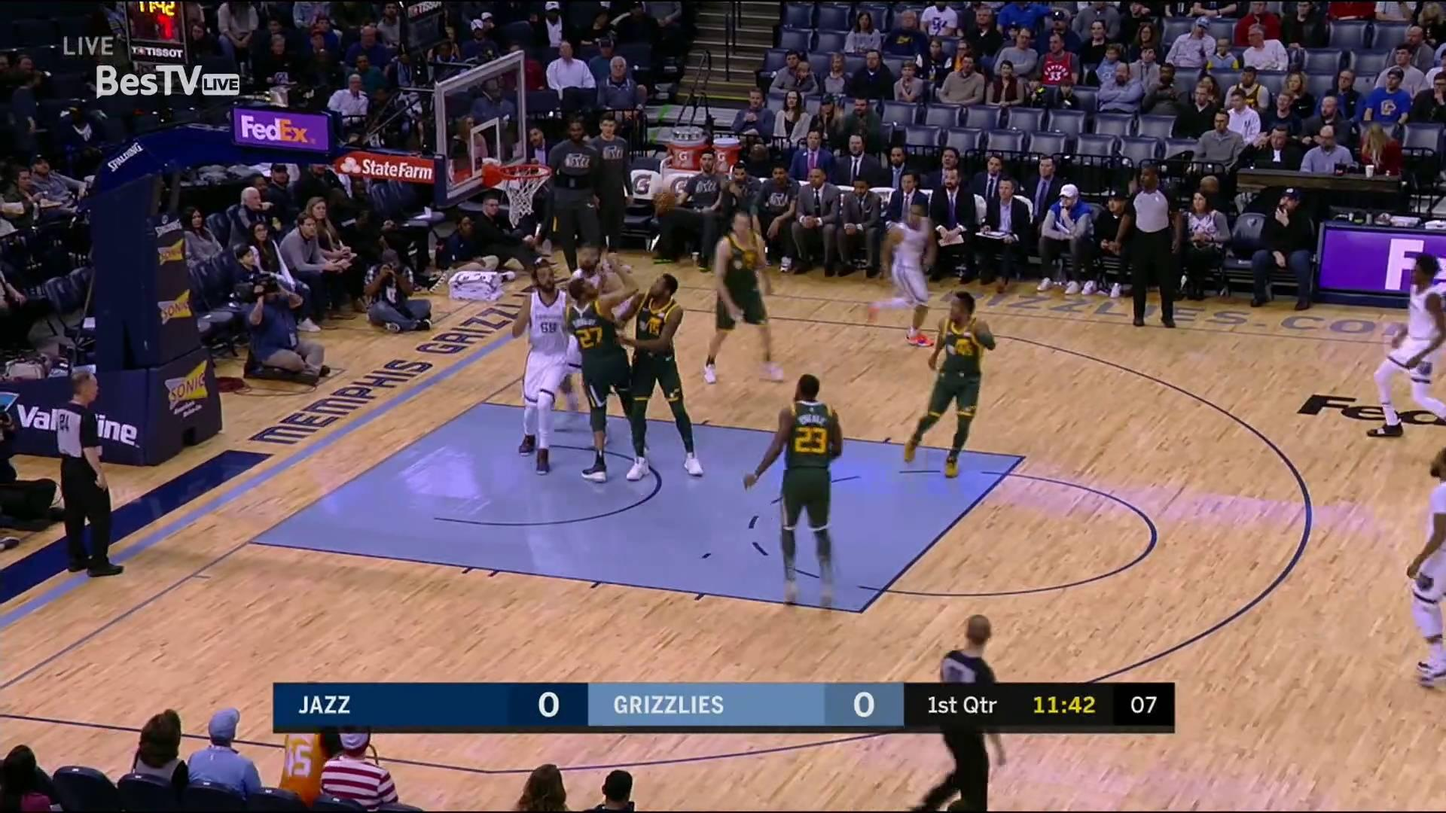basketball: (652, 185, 679, 214)
